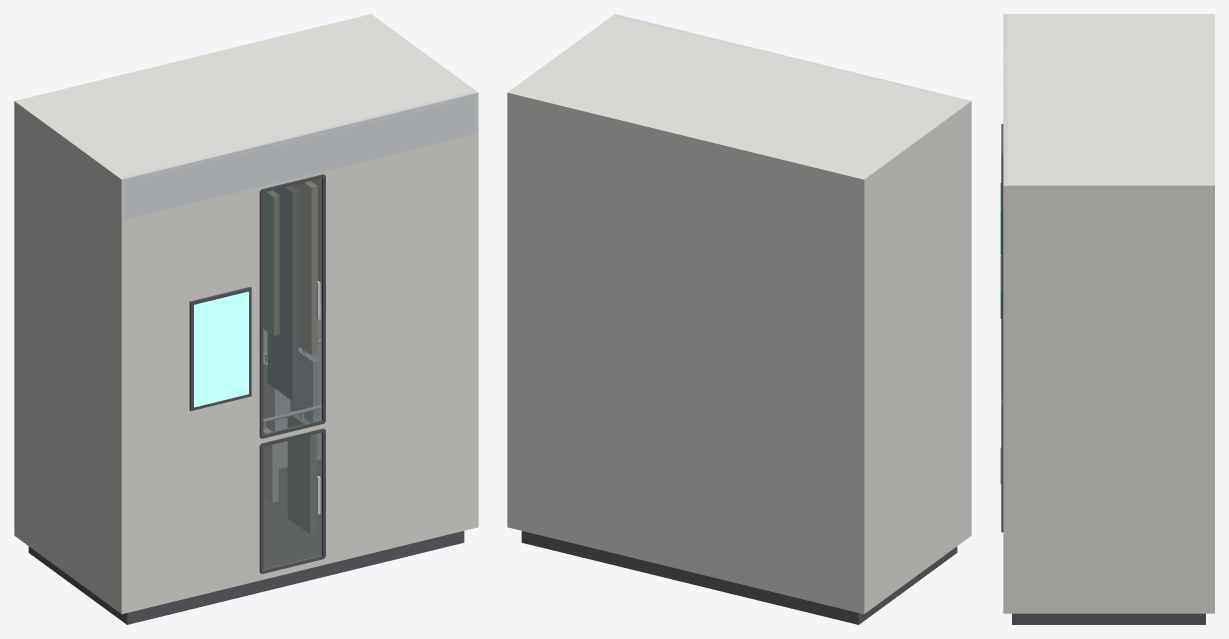
The model's file is wardrobe.glb.
3 renders of one model, left to right at view 1: azimuth 30°, elevation 25°; view 2: azimuth 150°, elevation 25°; view 3: azimuth 270°, elevation 25°, orthographic.
Visible parts, largest first — view 1: front_right, side_left, front_left, roof, power_bar, glass_upper, glass_lower, screen_display, plinth, garment_u5, garment_u4, floor (+11 smaller); view 2: back, side_left, roof, plinth, side_right, power_bar; view 3: side_right, roof, plinth, back, power_bar, trim_upper_r, trim_lower_r.
Part boxes in pixels (x1=…): front_right: x1=321, y1=134, x2=476, y2=564; side_left: x1=14, y1=100, x2=125, y2=614; front_left: x1=124, y1=187, x2=260, y2=613; roof: x1=17, y1=16, x2=476, y2=182; power_bar: x1=123, y1=91, x2=476, y2=219; glass_upper: x1=263, y1=178, x2=321, y2=434; glass_lower: x1=263, y1=432, x2=321, y2=569; screen_display: x1=194, y1=291, x2=248, y2=407; plinth: x1=28, y1=531, x2=464, y2=624; garment_u5: x1=268, y1=186, x2=298, y2=400; garment_u4: x1=292, y1=181, x2=317, y2=355; floor: x1=263, y1=459, x2=320, y2=568; back: x1=509, y1=91, x2=863, y2=613; side_left: x1=860, y1=100, x2=971, y2=614; roof: x1=509, y1=15, x2=968, y2=182; plinth: x1=521, y1=531, x2=957, y2=624; side_right: x1=507, y1=14, x2=617, y2=527; power_bar: x1=615, y1=14, x2=968, y2=101; side_right: x1=1003, y1=184, x2=1214, y2=613; roof: x1=1003, y1=15, x2=1214, y2=184; plinth: x1=1012, y1=613, x2=1205, y2=624; back: x1=1210, y1=15, x2=1214, y2=184; power_bar: x1=1003, y1=15, x2=1007, y2=184; trim_upper_r: x1=1001, y1=155, x2=1003, y2=398; trim_lower_r: x1=1001, y1=406, x2=1003, y2=531.
Size of the model in its own units: 1.82 by 2.2 by 0.964.
